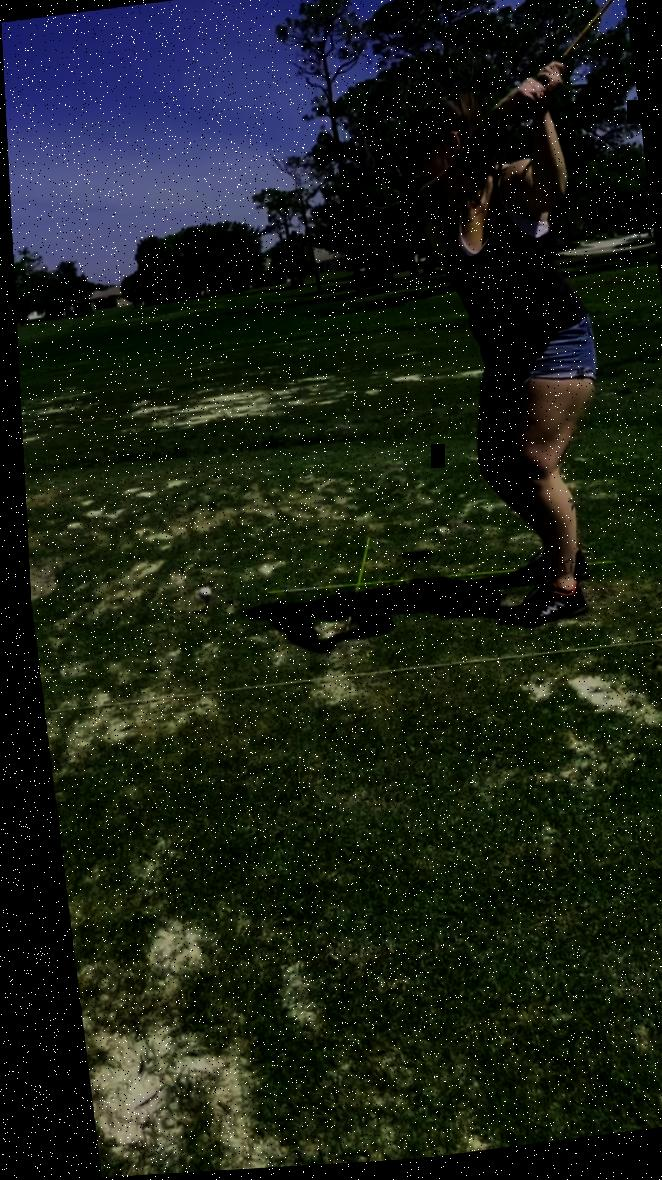GolfBall: (189, 581, 209, 607)
